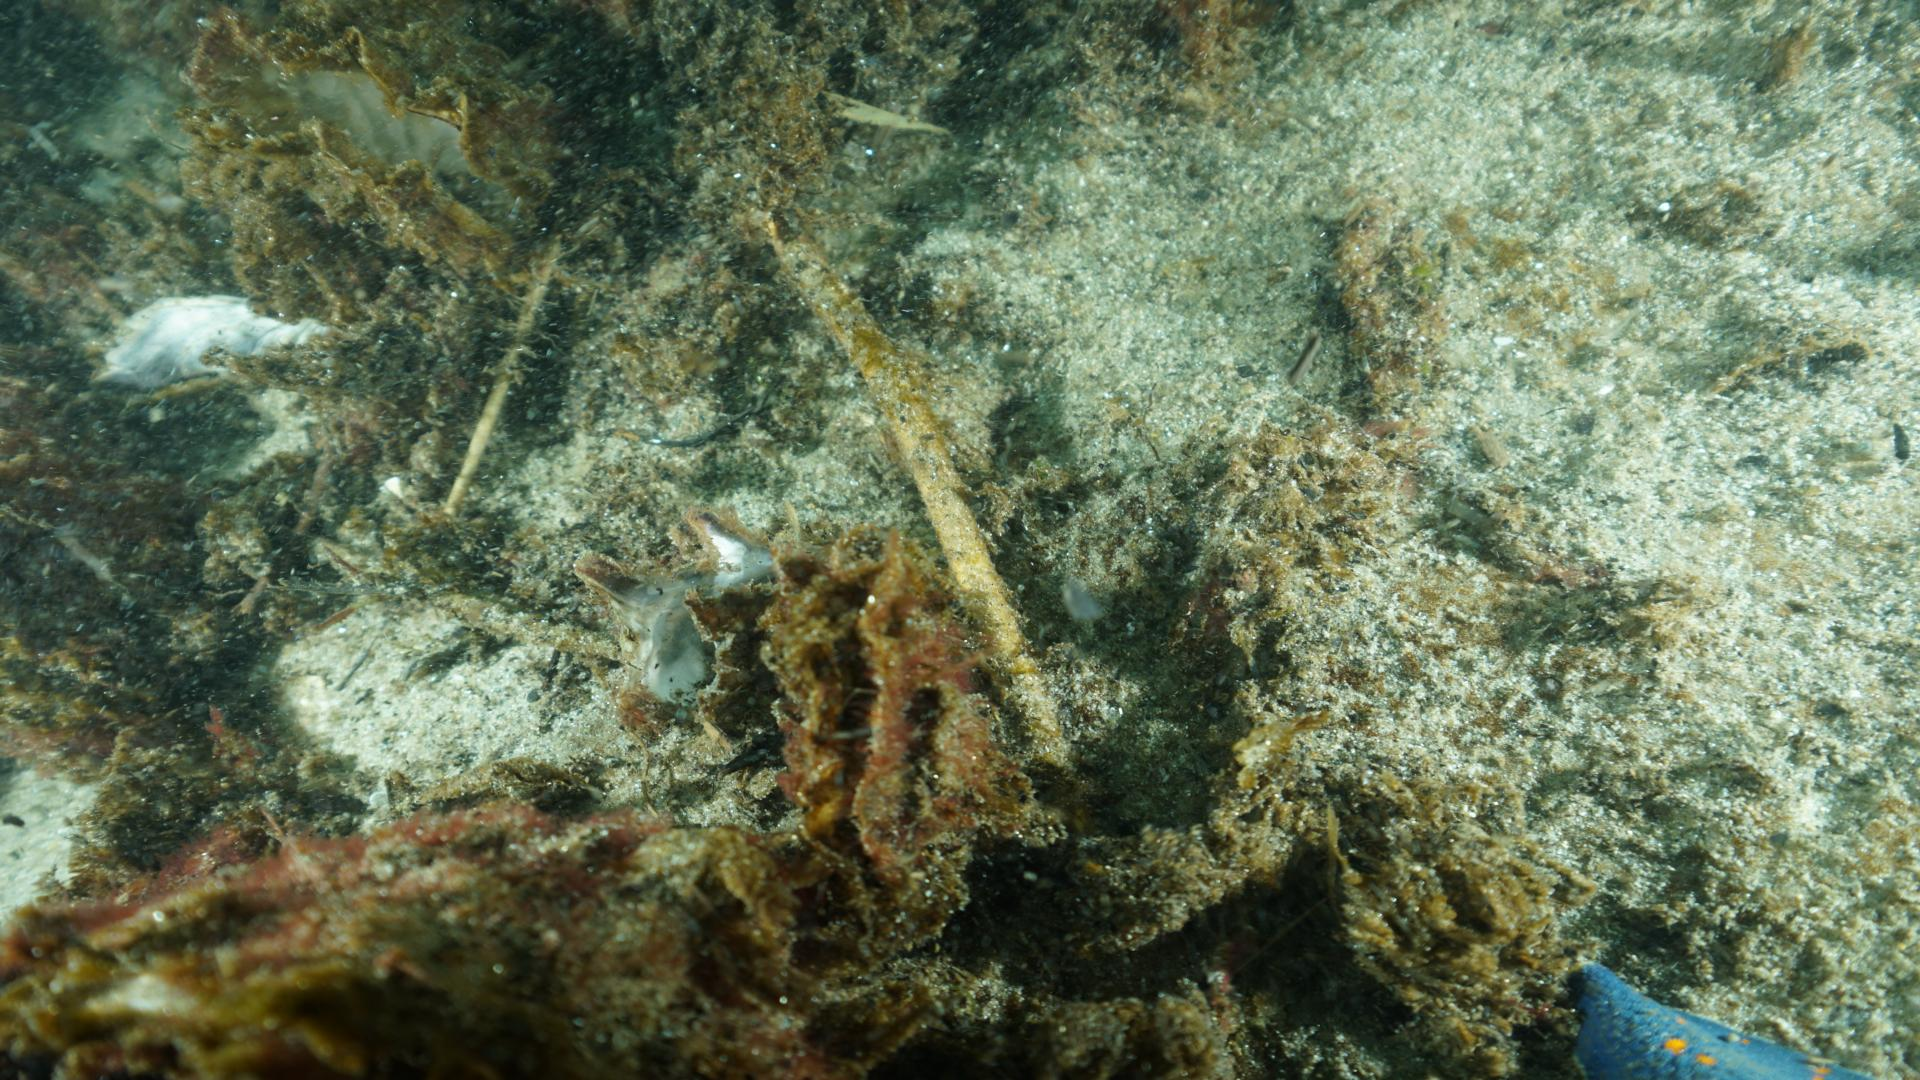rope: (779, 249, 1065, 762)
